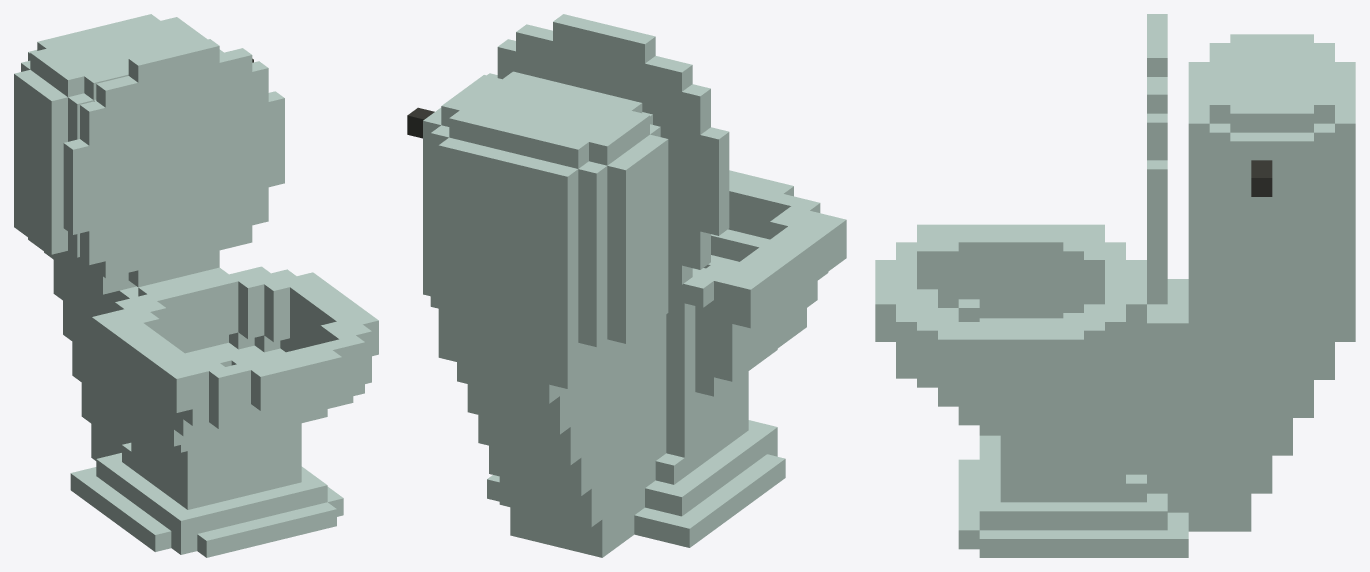
Rendered from Toilette.obj.
The picture shows the model from 3 angles, left to right: view 1: azimuth 30°, elevation 25°; view 2: azimuth 150°, elevation 25°; view 3: azimuth 270°, elevation 25°; orthographic projection. The views are drawn at different scales.
Parts seen in each view (by area): view 1: Toilette; view 2: Toilette; view 3: Toilette.
Part boxes in pixels (left/top/right/bottom): Toilette: left=14, top=14, right=378, bottom=557; Toilette: left=407, top=14, right=846, bottom=557; Toilette: left=875, top=14, right=1355, bottom=557.
Size of the model in its own units: 14 by 25 by 23.
1 material, 1 textured.
